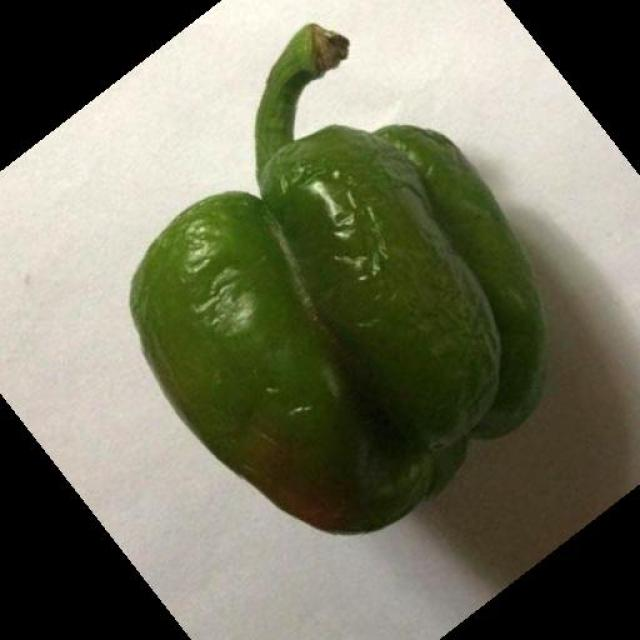Stale_Capsicum: (171, 122, 525, 531)
